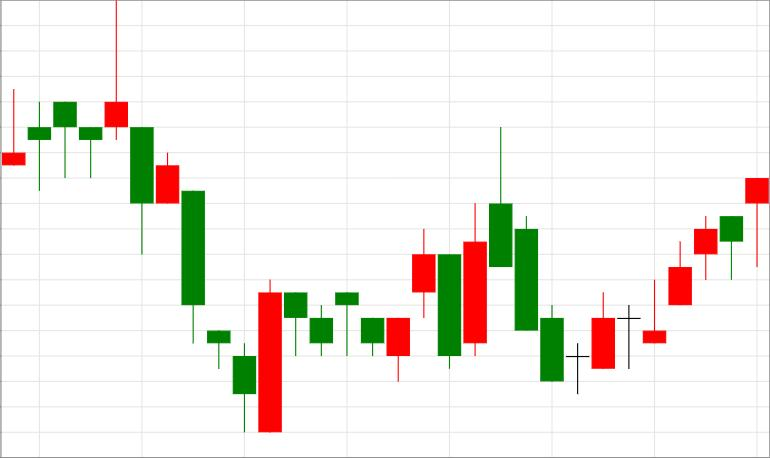bullish_engulfing_rise: (156, 155, 281, 432)
